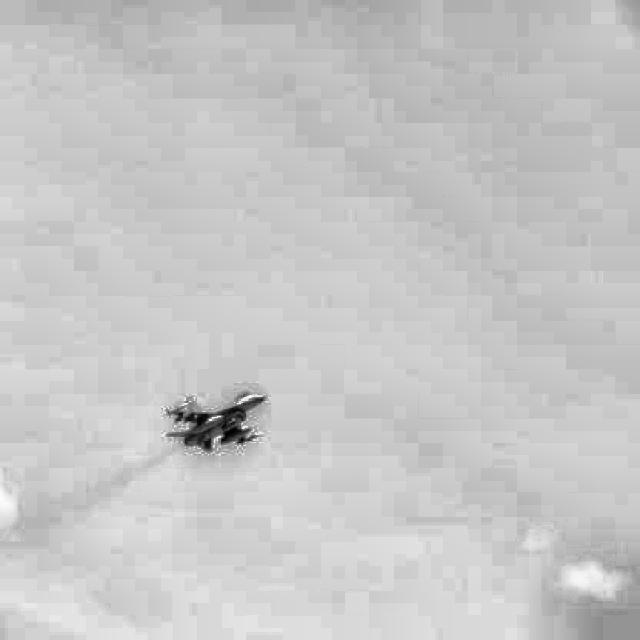F16: (165, 390, 268, 453)
